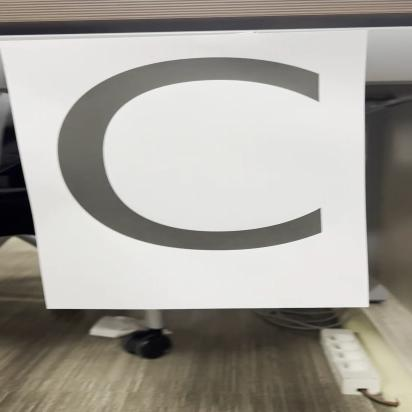seat: (0, 34, 374, 294)
